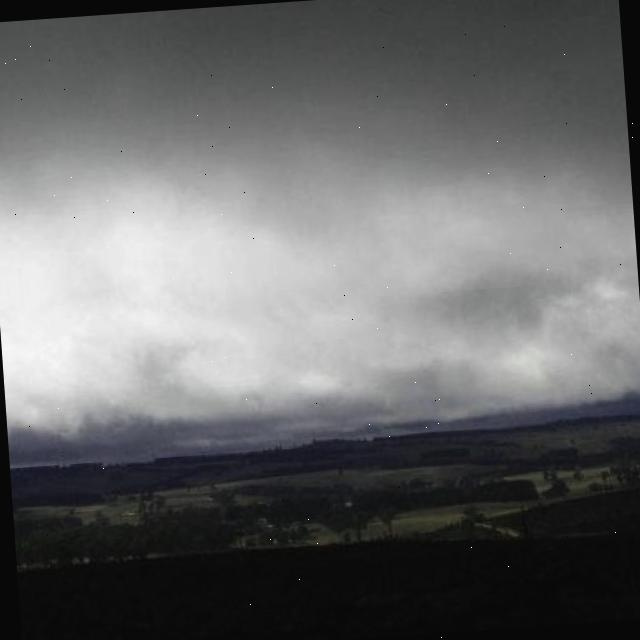St: (1, 45, 640, 439)
